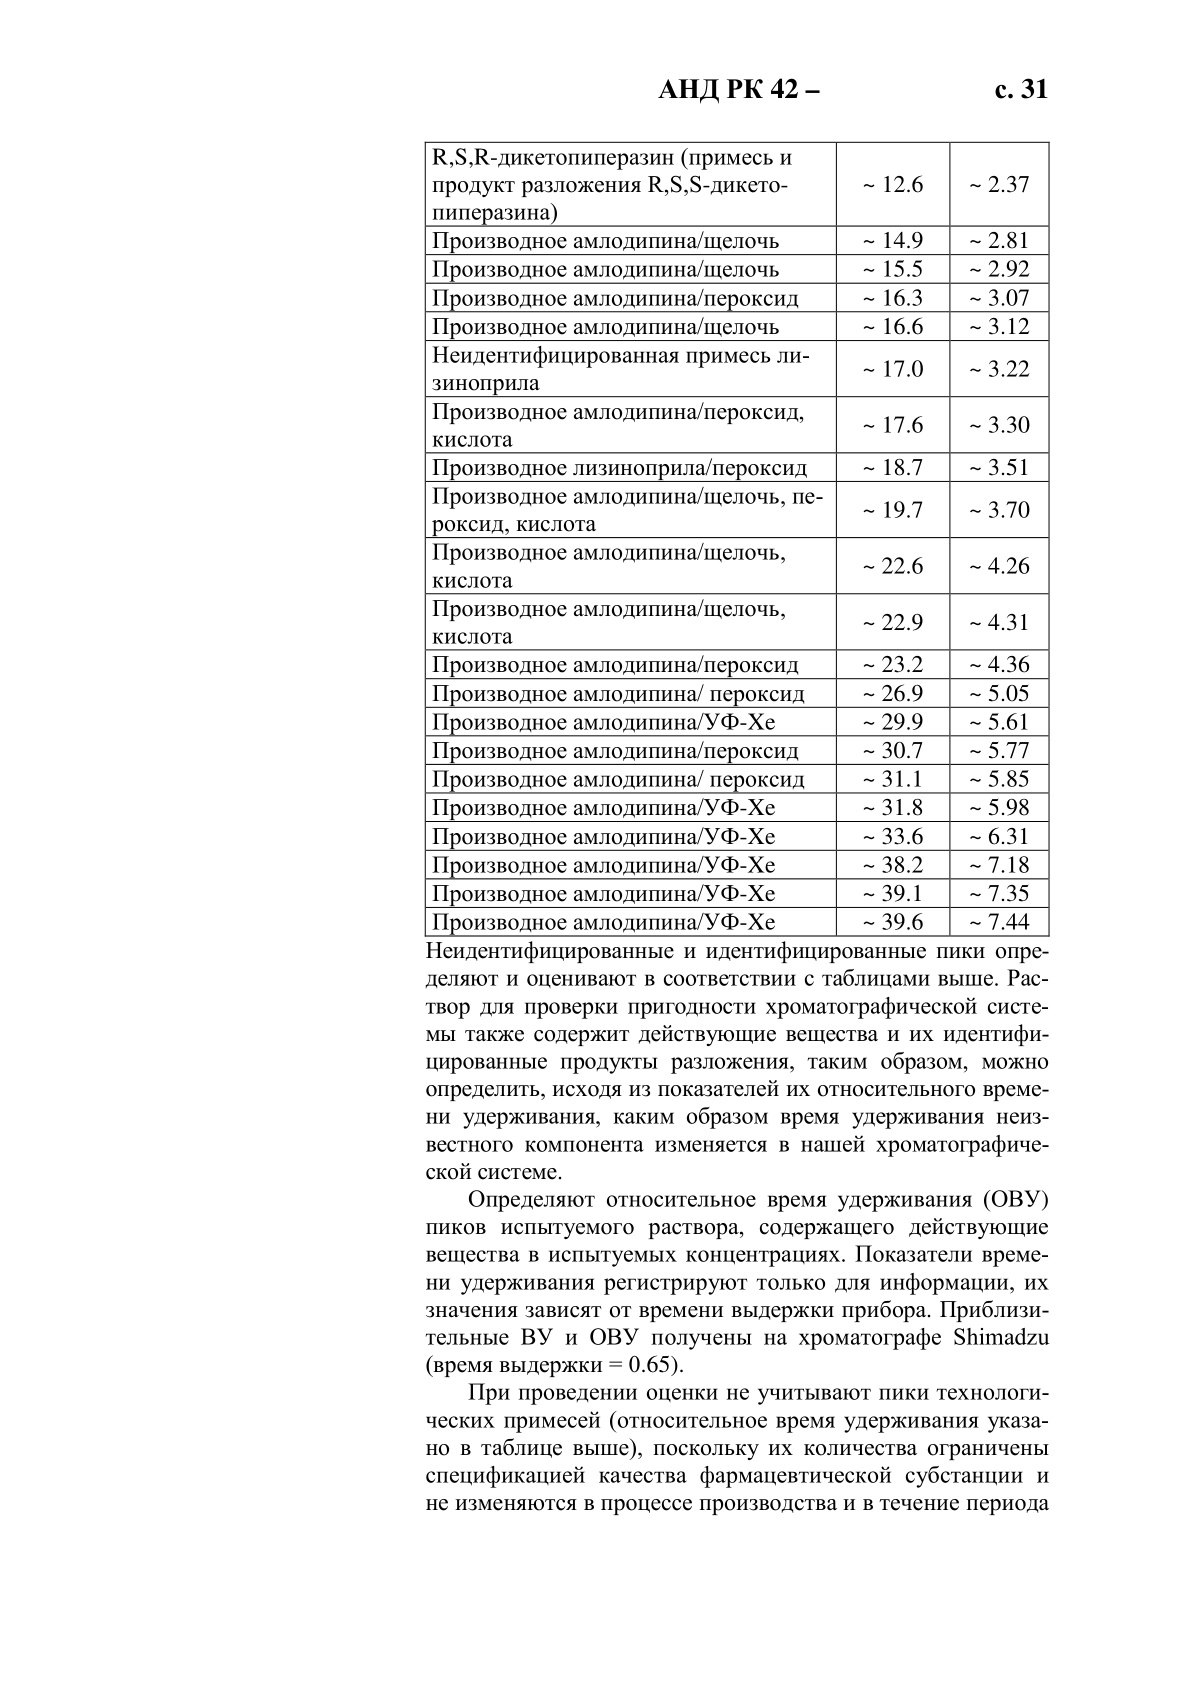full_lined: (424, 140, 1051, 938)
